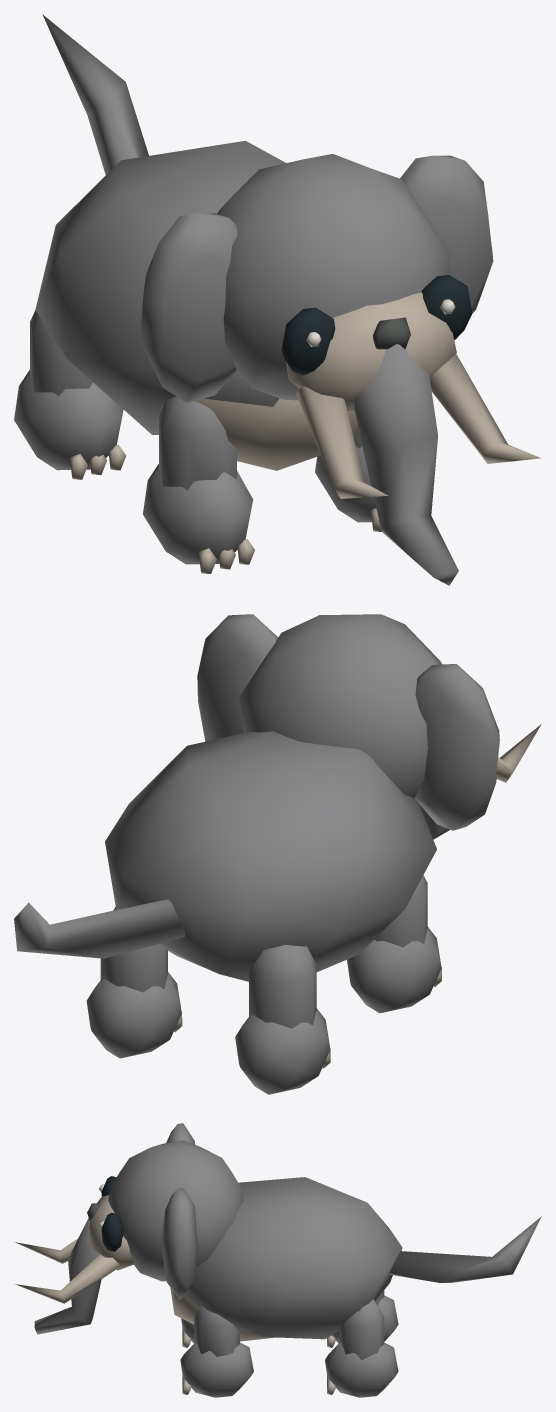
The model's file is org_asianelephant.glb.
3 views of the same model, one above another, from view 1: azimuth 30°, elevation 25°; view 2: azimuth 150°, elevation 25°; view 3: azimuth 270°, elevation 25° (orthographic). The views are drawn at different scales.
Parts seen in each view (by area): view 1: Head, Body, Leg_FR, Leg_BR, Tail, Eye_R, Eye_L, Leg_FL; view 2: Body, Head, Leg_BR, Leg_BL, Leg_FR, Tail; view 3: Body, Head, Leg_BL, Leg_FL, Tail, Leg_BR, Eye_L.
Part boxes in pixels (x1=…): Head: x1=140, y1=154, x2=541, y2=585; Body: x1=35, y1=140, x2=358, y2=470; Leg_FR: x1=143, y1=396, x2=254, y2=573; Leg_BR: x1=14, y1=310, x2=126, y2=479; Tail: x1=42, y1=14, x2=148, y2=174; Eye_R: x1=281, y1=307, x2=335, y2=375; Eye_L: x1=421, y1=275, x2=472, y2=339; Leg_FL: x1=315, y1=430, x2=382, y2=531; Body: x1=105, y1=731, x2=436, y2=981; Head: x1=197, y1=614, x2=541, y2=839; Leg_BR: x1=235, y1=945, x2=330, y2=1094; Leg_BL: x1=86, y1=906, x2=182, y2=1058; Leg_FR: x1=347, y1=875, x2=441, y2=1013; Tail: x1=14, y1=899, x2=184, y2=958; Body: x1=170, y1=1177, x2=402, y2=1341; Head: x1=14, y1=1123, x2=243, y2=1334; Leg_BL: x1=325, y1=1299, x2=398, y2=1397; Leg_FL: x1=180, y1=1306, x2=253, y2=1397; Tail: x1=389, y1=1216, x2=541, y2=1282; Leg_BR: x1=327, y1=1290, x2=398, y2=1347; Eye_L: x1=99, y1=1212, x2=123, y2=1251.
Size of the model in its own units: 1.03 by 1.12 by 2.4.
